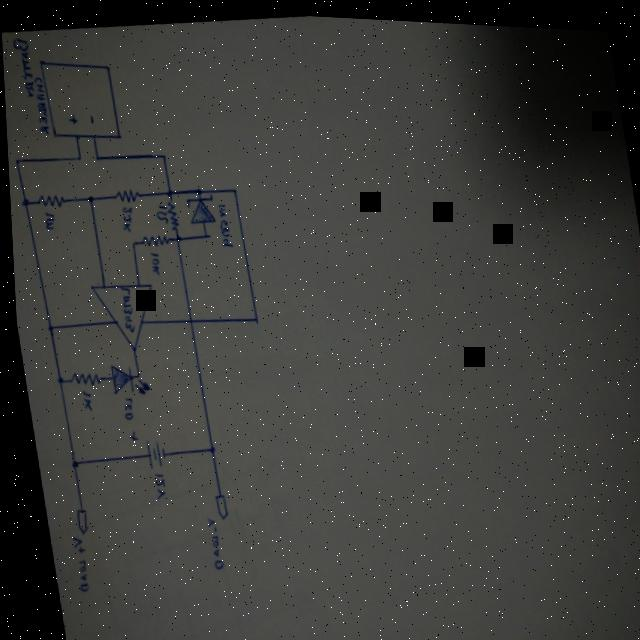crossover: (184, 315, 189, 323)
diode: (104, 359, 147, 397), (181, 190, 214, 224)
junction: (16, 196, 26, 208), (64, 457, 73, 469), (41, 322, 50, 333), (50, 373, 59, 384), (10, 156, 18, 167), (83, 192, 91, 203), (202, 441, 210, 452), (163, 184, 170, 196), (192, 185, 201, 194), (171, 231, 178, 242), (247, 312, 255, 321), (228, 184, 235, 193), (130, 369, 137, 378), (199, 229, 206, 238), (127, 238, 133, 247), (73, 152, 79, 160), (92, 152, 97, 161), (157, 151, 164, 157)
resistor: (63, 368, 97, 387), (32, 190, 63, 210), (136, 230, 168, 248), (162, 195, 177, 229), (110, 186, 138, 203)
source: (37, 51, 118, 145), (139, 436, 161, 469)
terminal: (207, 490, 223, 518), (68, 506, 83, 534)
text: (9, 33, 34, 97), (63, 533, 84, 592), (30, 75, 48, 134), (199, 513, 217, 568), (114, 283, 132, 332), (212, 200, 231, 246), (146, 469, 161, 500), (116, 204, 132, 231), (115, 395, 129, 421), (150, 201, 165, 222), (39, 210, 53, 231), (75, 388, 88, 410), (146, 249, 157, 274)
